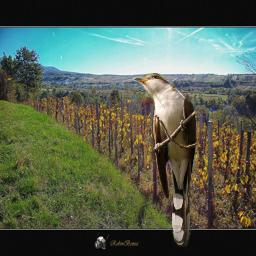Cuckoo: (133, 73, 198, 247)
